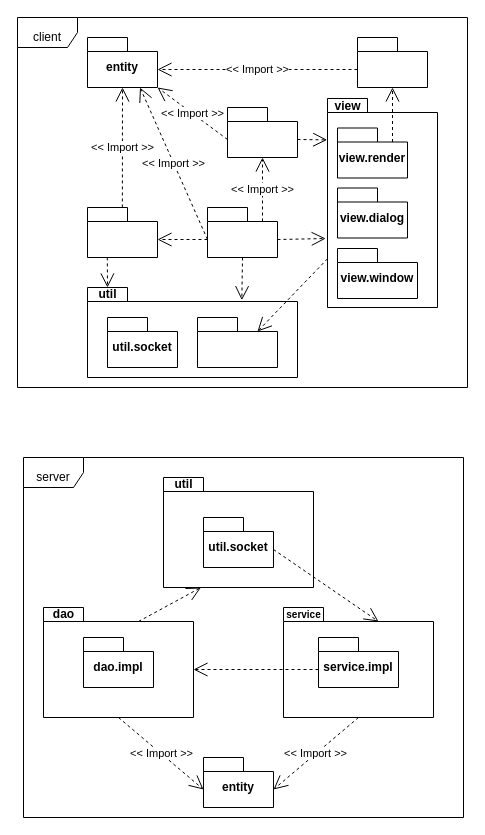
The diagram is 485 pixels wide and 835 high, and some of its shapes have lost their labels. Each missing label, with the box of its shape:
builder: (86, 206, 158, 258)
controller: (206, 206, 278, 258)
item: (356, 36, 428, 88)
model: (226, 106, 298, 158)
util.interfaces: (196, 316, 278, 368)
